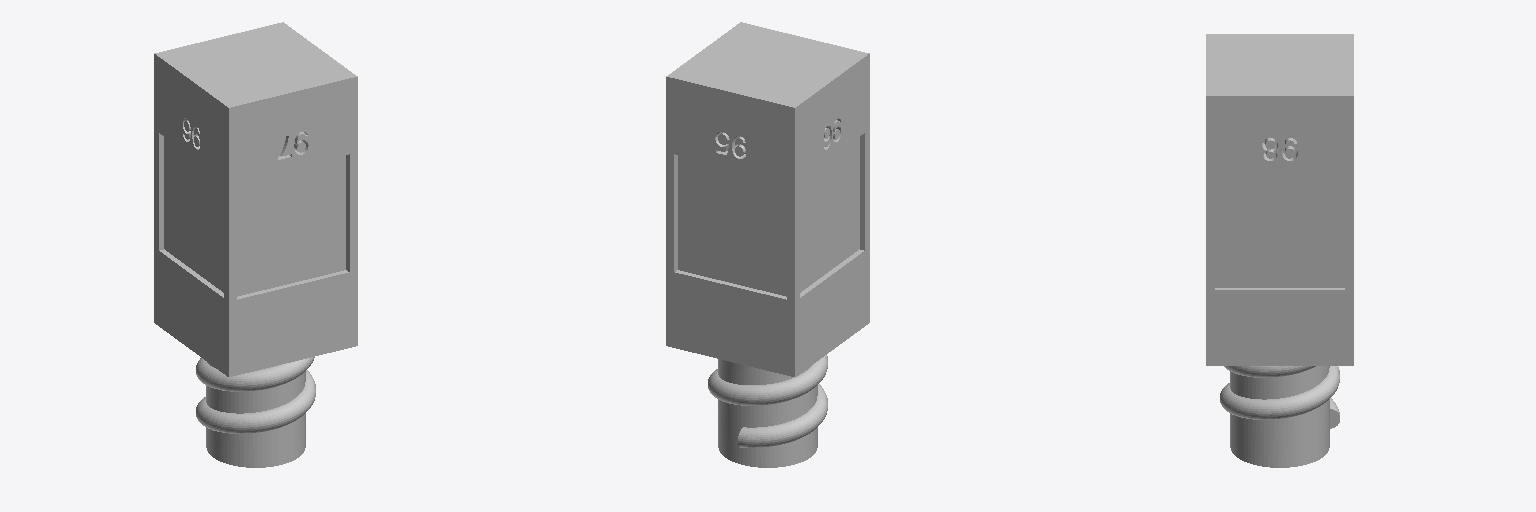
Rendered from chair_leg2.obj.
3 views of the same model, side by side, from view 1: azimuth 30°, elevation 25°; view 2: azimuth 150°, elevation 25°; view 3: azimuth 270°, elevation 25° (orthographic).
Parts seen in each view (by area): view 1: chair_leg2, chair_leg2.003, chair_leg2.002; view 2: chair_leg2, chair_leg2.001, chair_leg2.002; view 3: chair_leg2, chair_leg2.004.
Boxes of the visible parts, x1,y1,x2,y2 form: chair_leg2: [154, 22, 357, 467]; chair_leg2.003: [237, 154, 349, 299]; chair_leg2.002: [159, 133, 223, 297]; chair_leg2: [666, 22, 869, 467]; chair_leg2.001: [674, 154, 786, 299]; chair_leg2.002: [800, 133, 864, 297]; chair_leg2: [1206, 34, 1353, 467]; chair_leg2.004: [1215, 172, 1344, 289].
Bounding box in the file's own units: 0.03 × 0.085 × 0.03.